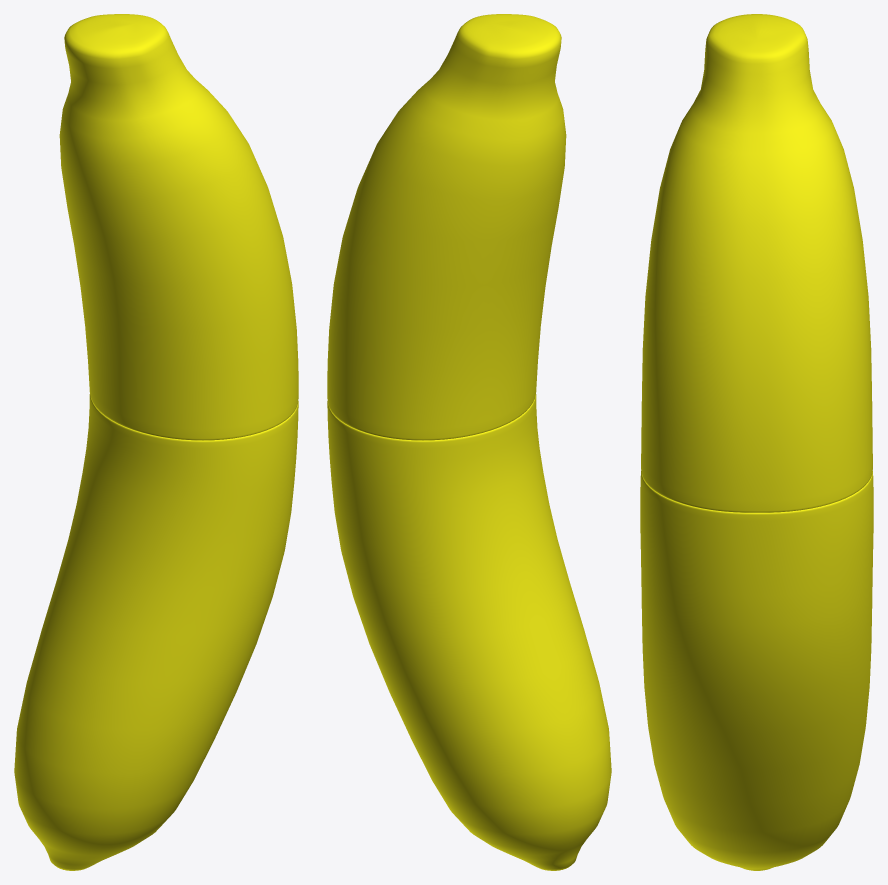
The model's file is BananaToy.fbx.
The picture shows the model from 3 angles, left to right: view 1: azimuth 30°, elevation 25°; view 2: azimuth 150°, elevation 25°; view 3: azimuth 270°, elevation 25°; orthographic projection. The views are drawn at different scales.
Parts seen in each view (by area): view 1: Banana; view 2: Banana; view 3: Banana.
Part boxes in pixels (bbox=[...]): Banana: bbox=[14, 14, 298, 870]; Banana: bbox=[327, 14, 611, 870]; Banana: bbox=[640, 14, 873, 870].
Size of the model in its own units: 1.3 by 4.04 by 0.9986.
